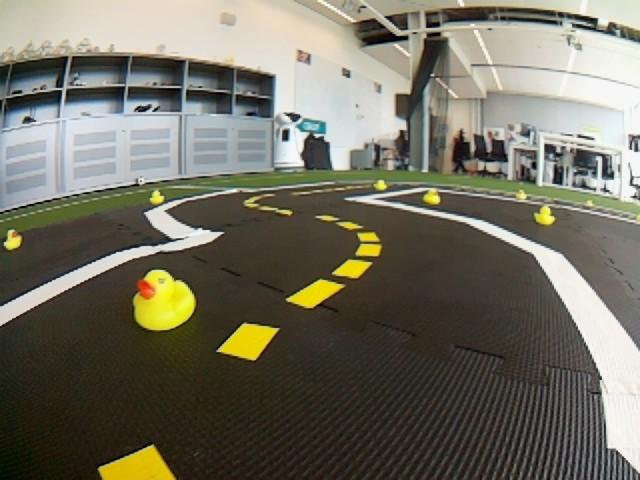Duckies: (135, 270, 193, 330), (2, 229, 22, 251), (534, 206, 556, 225), (423, 189, 440, 204), (150, 192, 164, 204), (374, 180, 388, 190), (514, 192, 526, 200), (585, 200, 595, 206)
